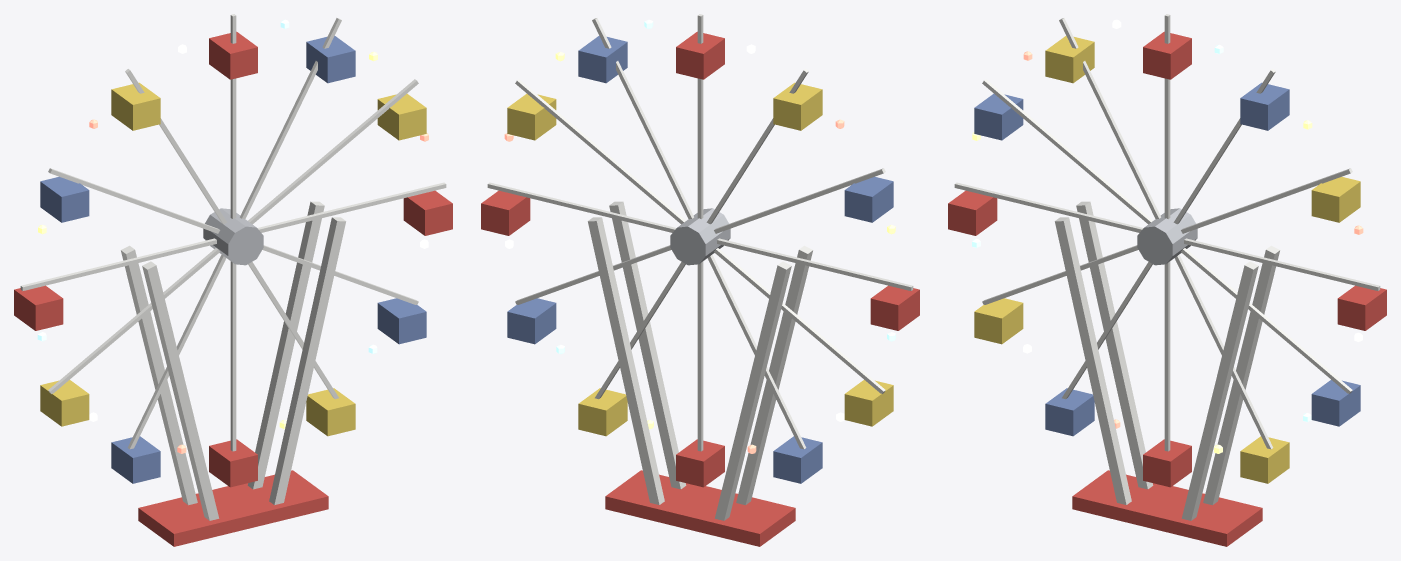
File: ferris_wheel.glb
The picture shows the model from 3 angles, left to right: view 1: azimuth 30°, elevation 25°; view 2: azimuth 150°, elevation 25°; view 3: azimuth 330°, elevation 25°; orthographic projection.
Visible parts, largest first — view 1: fan.001, ferris_wheel; view 2: fan.001, ferris_wheel; view 3: fan.001, ferris_wheel.
Part boxes in pixels (x1,y1,x2,y2): fan.001: (14,14,452,487); ferris_wheel: (120,201,346,546); fan.001: (481,14,919,487); ferris_wheel: (587,201,813,546); fan.001: (948,14,1386,487); ferris_wheel: (1054,201,1280,546).
Bounding box in the file's own units: 13.7 × 15.56 × 2.
